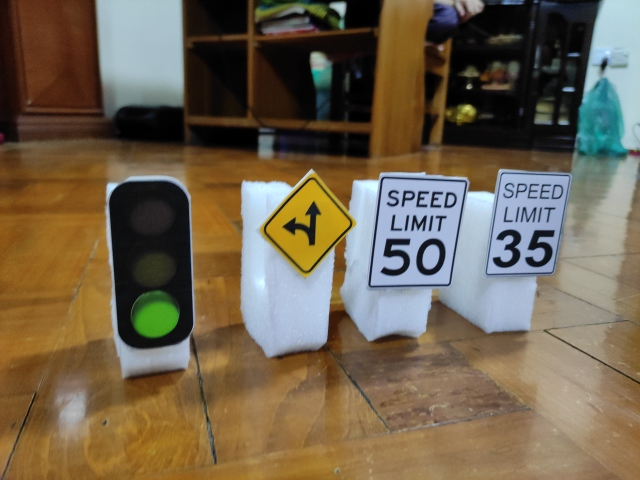Green Traffic Light: (108, 177, 193, 350)
Speed Limit 35: (485, 172, 572, 278)
Speed Limit 50: (368, 173, 467, 287)
Straight Or Left Sign: (261, 170, 355, 280)
